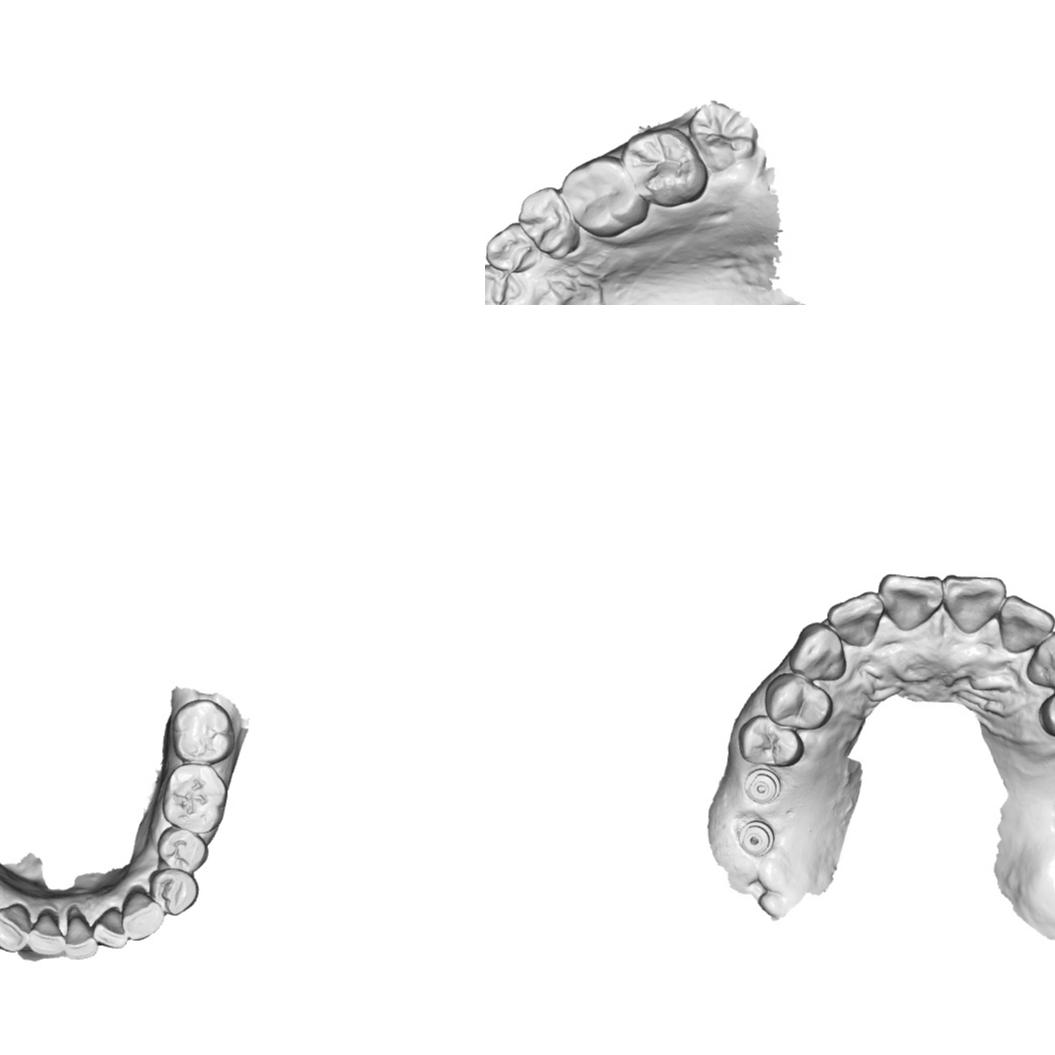canine: (784, 621, 850, 683), (485, 220, 540, 271), (120, 886, 166, 940), (1025, 629, 1055, 689), (0, 903, 31, 953)
implant: (742, 766, 783, 806), (738, 818, 776, 858)
incisor: (875, 570, 944, 634), (938, 573, 1007, 636), (825, 588, 888, 648), (997, 593, 1055, 656), (63, 906, 99, 960), (26, 909, 66, 956), (91, 904, 129, 949), (485, 263, 524, 305)
molar: (561, 156, 649, 238), (620, 127, 708, 207), (687, 100, 759, 172), (161, 762, 229, 834), (170, 699, 235, 764)
premolar: (517, 186, 581, 260), (762, 670, 833, 732), (737, 712, 805, 769), (148, 867, 201, 916), (156, 826, 209, 873), (1037, 680, 1055, 742)
